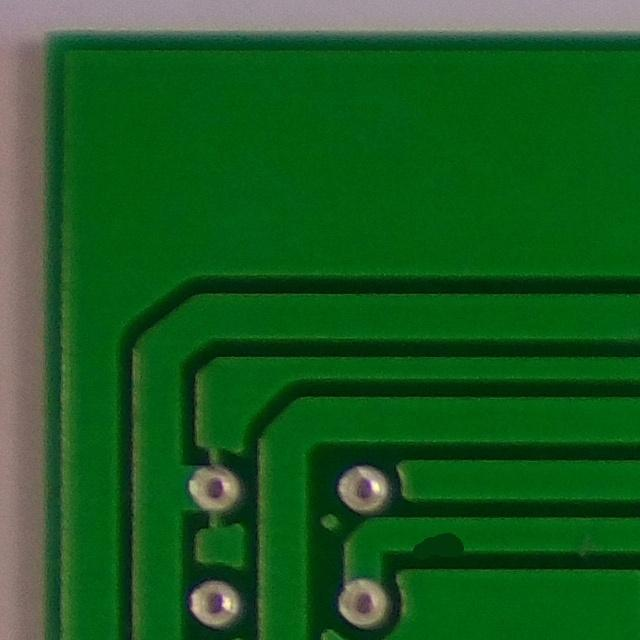mouse_bite: (401, 508, 479, 575)
